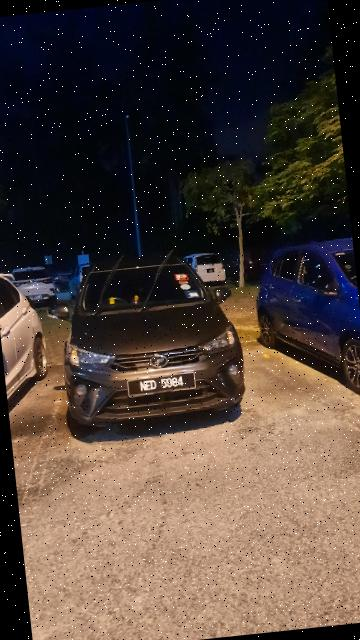License_Plate: (123, 370, 198, 401)
car: (48, 243, 253, 440)
